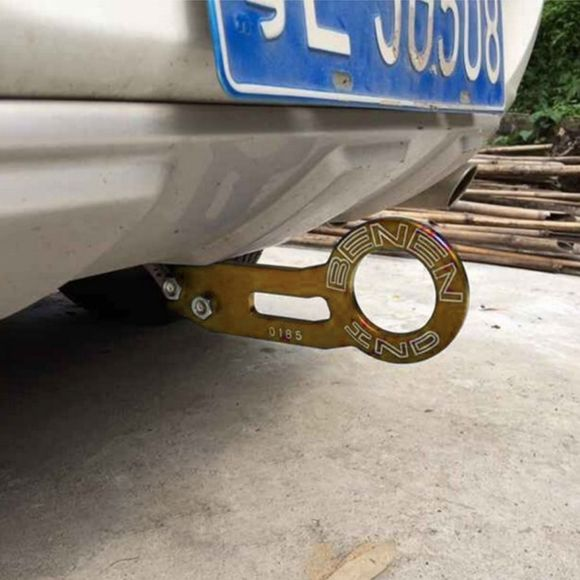bolt: (189, 295, 216, 322), (161, 276, 183, 304)
